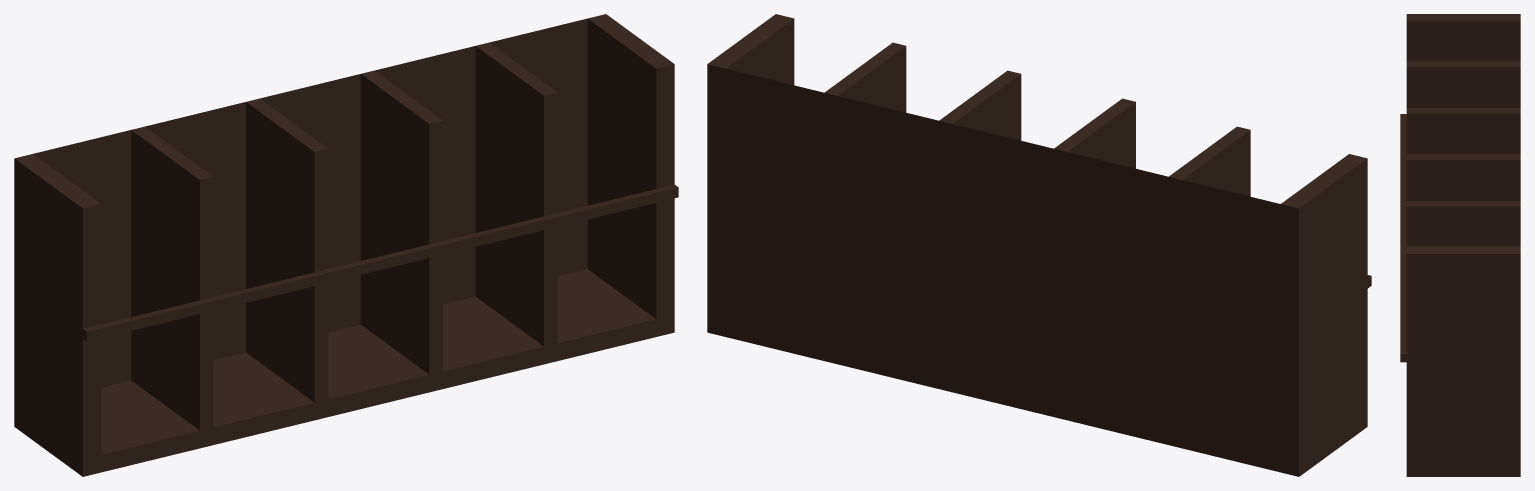
The model's file is prateleirabebida.fbx.
3 renders of one model, left to right at view 1: azimuth 30°, elevation 25°; view 2: azimuth 150°, elevation 25°; view 3: azimuth 270°, elevation 25°, orthographic. The views are drawn at different scales.
Parts seen in each view (by area): view 1: Cube; view 2: Cube; view 3: Cube.
Part boxes in pixels (<box>): Cube: <box>14,14,678,476</box>; Cube: <box>707,14,1371,476</box>; Cube: <box>1400,14,1520,476</box>.
Size of the model in its own units: 126 by 54.52 by 26.7.
